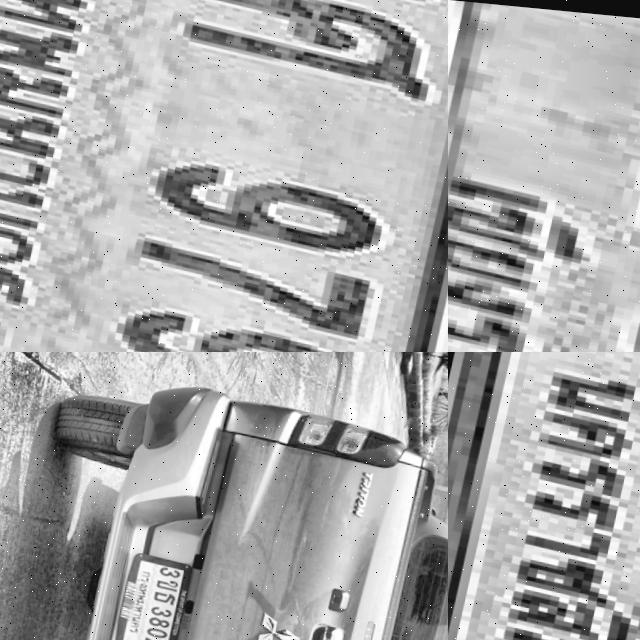license-plate: (0, 0, 448, 352), (448, 0, 640, 352), (448, 352, 640, 640), (116, 546, 197, 640)
